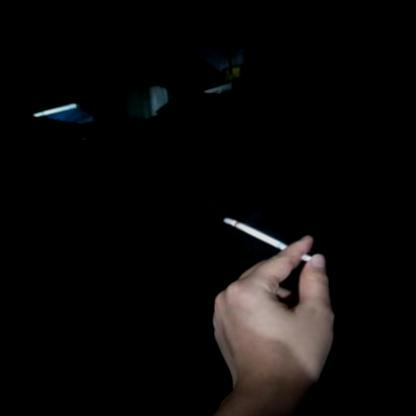cigarette: (221, 215, 315, 264)
